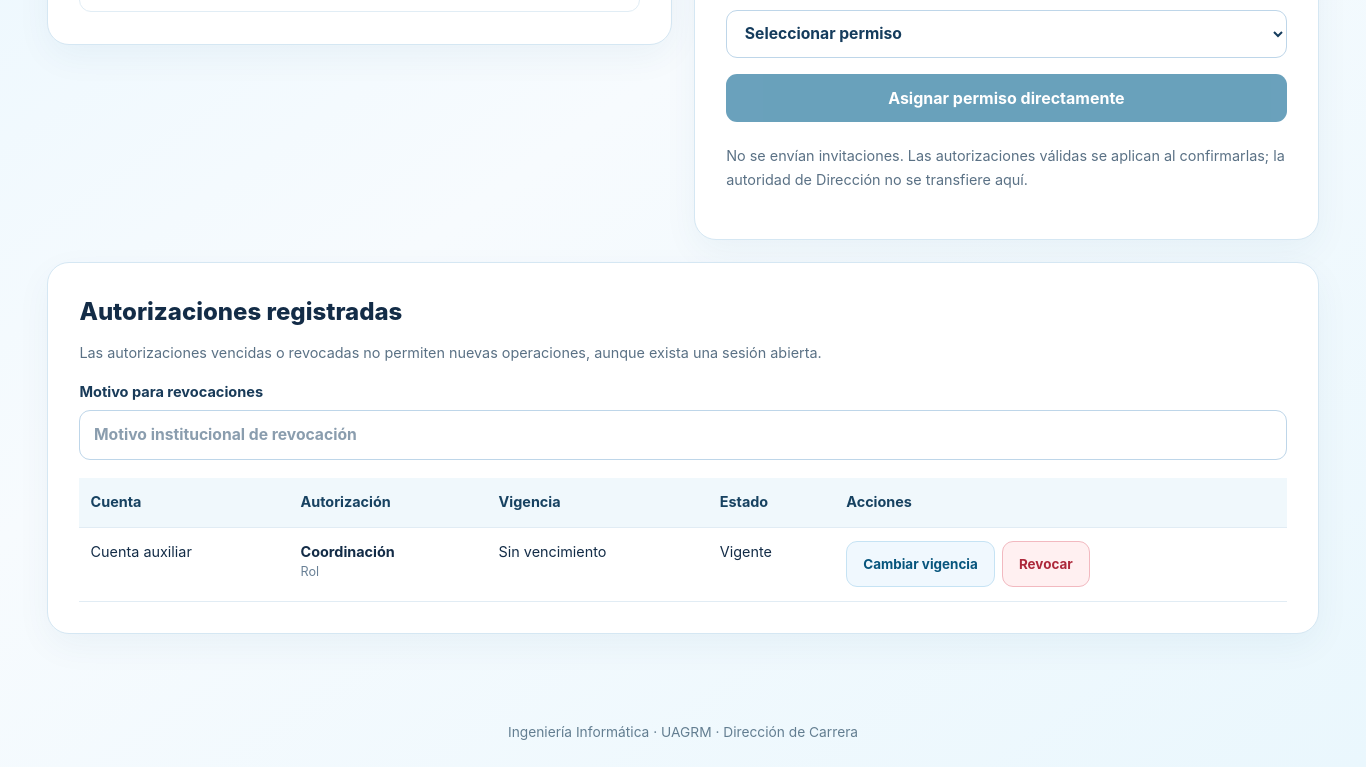
it: Administración institucional › muestra errores de revocación en un aviso flotante junto al usuario
The image size is (1366, 767).
(page scrolled)
Expected: the text "Cuenta auxiliar" is shown, [79,527,289,601]
Click the button "Revocar": (1046,564) [1002,541,1090,587]
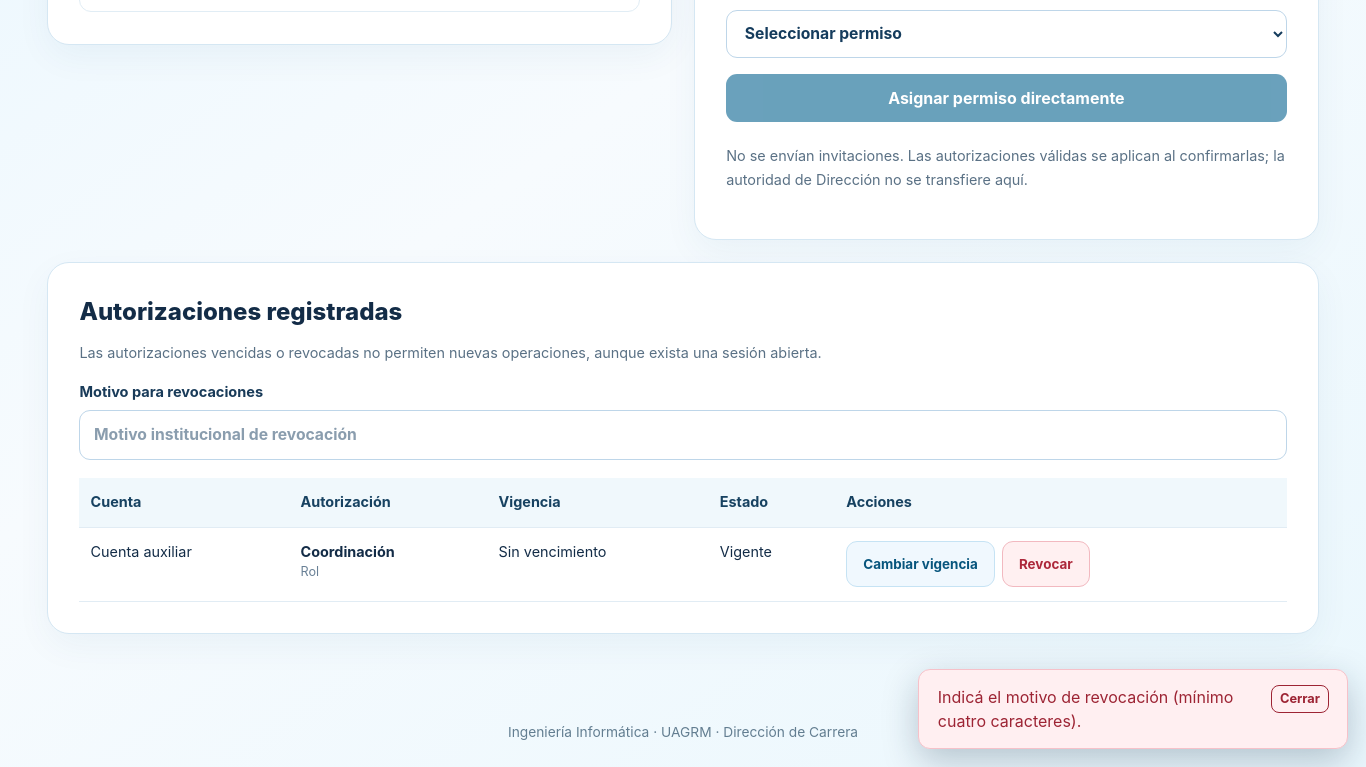
Expected: the message "Indicá el motivo de revocación (mínimo cuatro caracteres). Cerrar" is shown, [918,669,1348,749]
